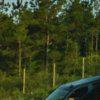Tree: (11, 1, 78, 68)
